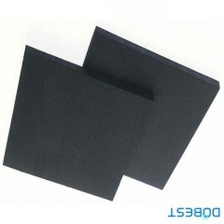foam_box: (45, 21, 224, 193), (0, 41, 159, 205)
